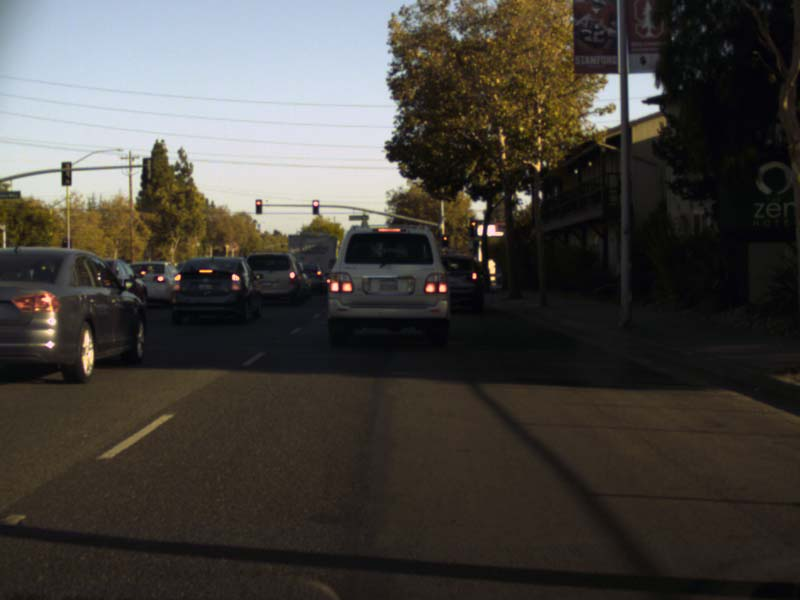Red: (469, 218, 477, 236), (311, 199, 318, 215), (255, 198, 262, 212), (442, 234, 447, 245)
